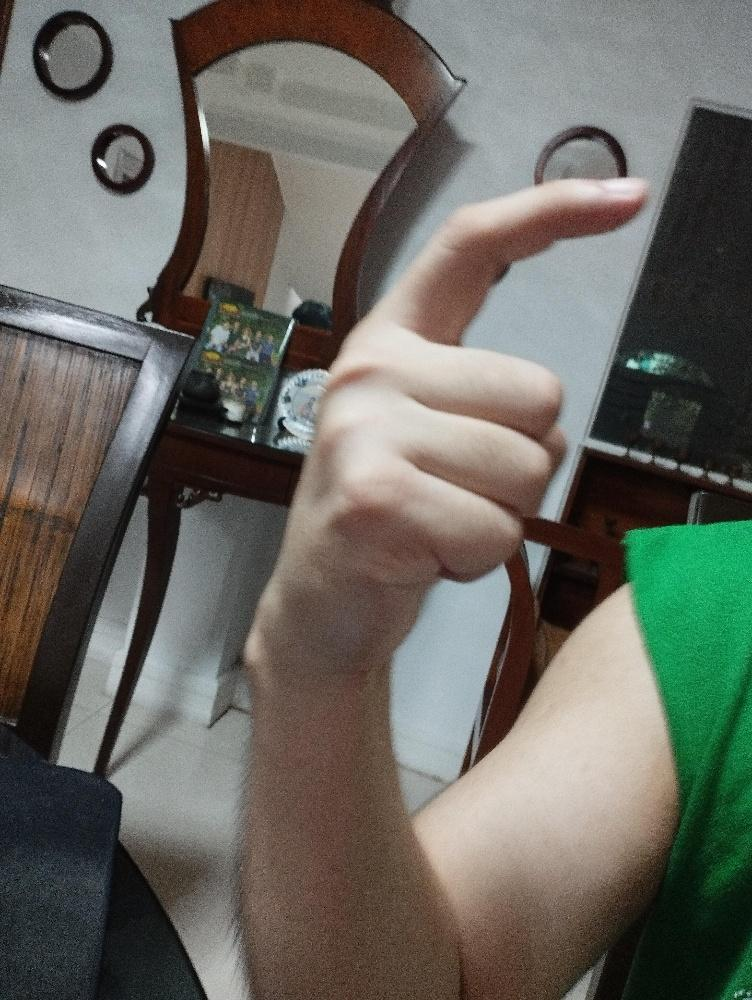x: (254, 172, 657, 672)
